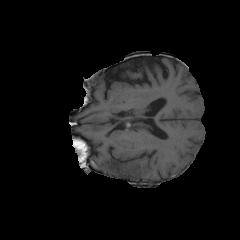glioma: (74, 140, 148, 180)
